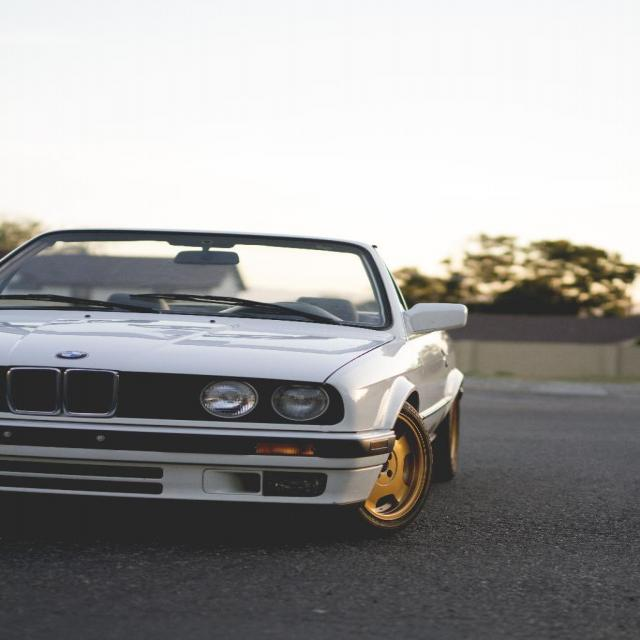other: (0, 230, 468, 537)
